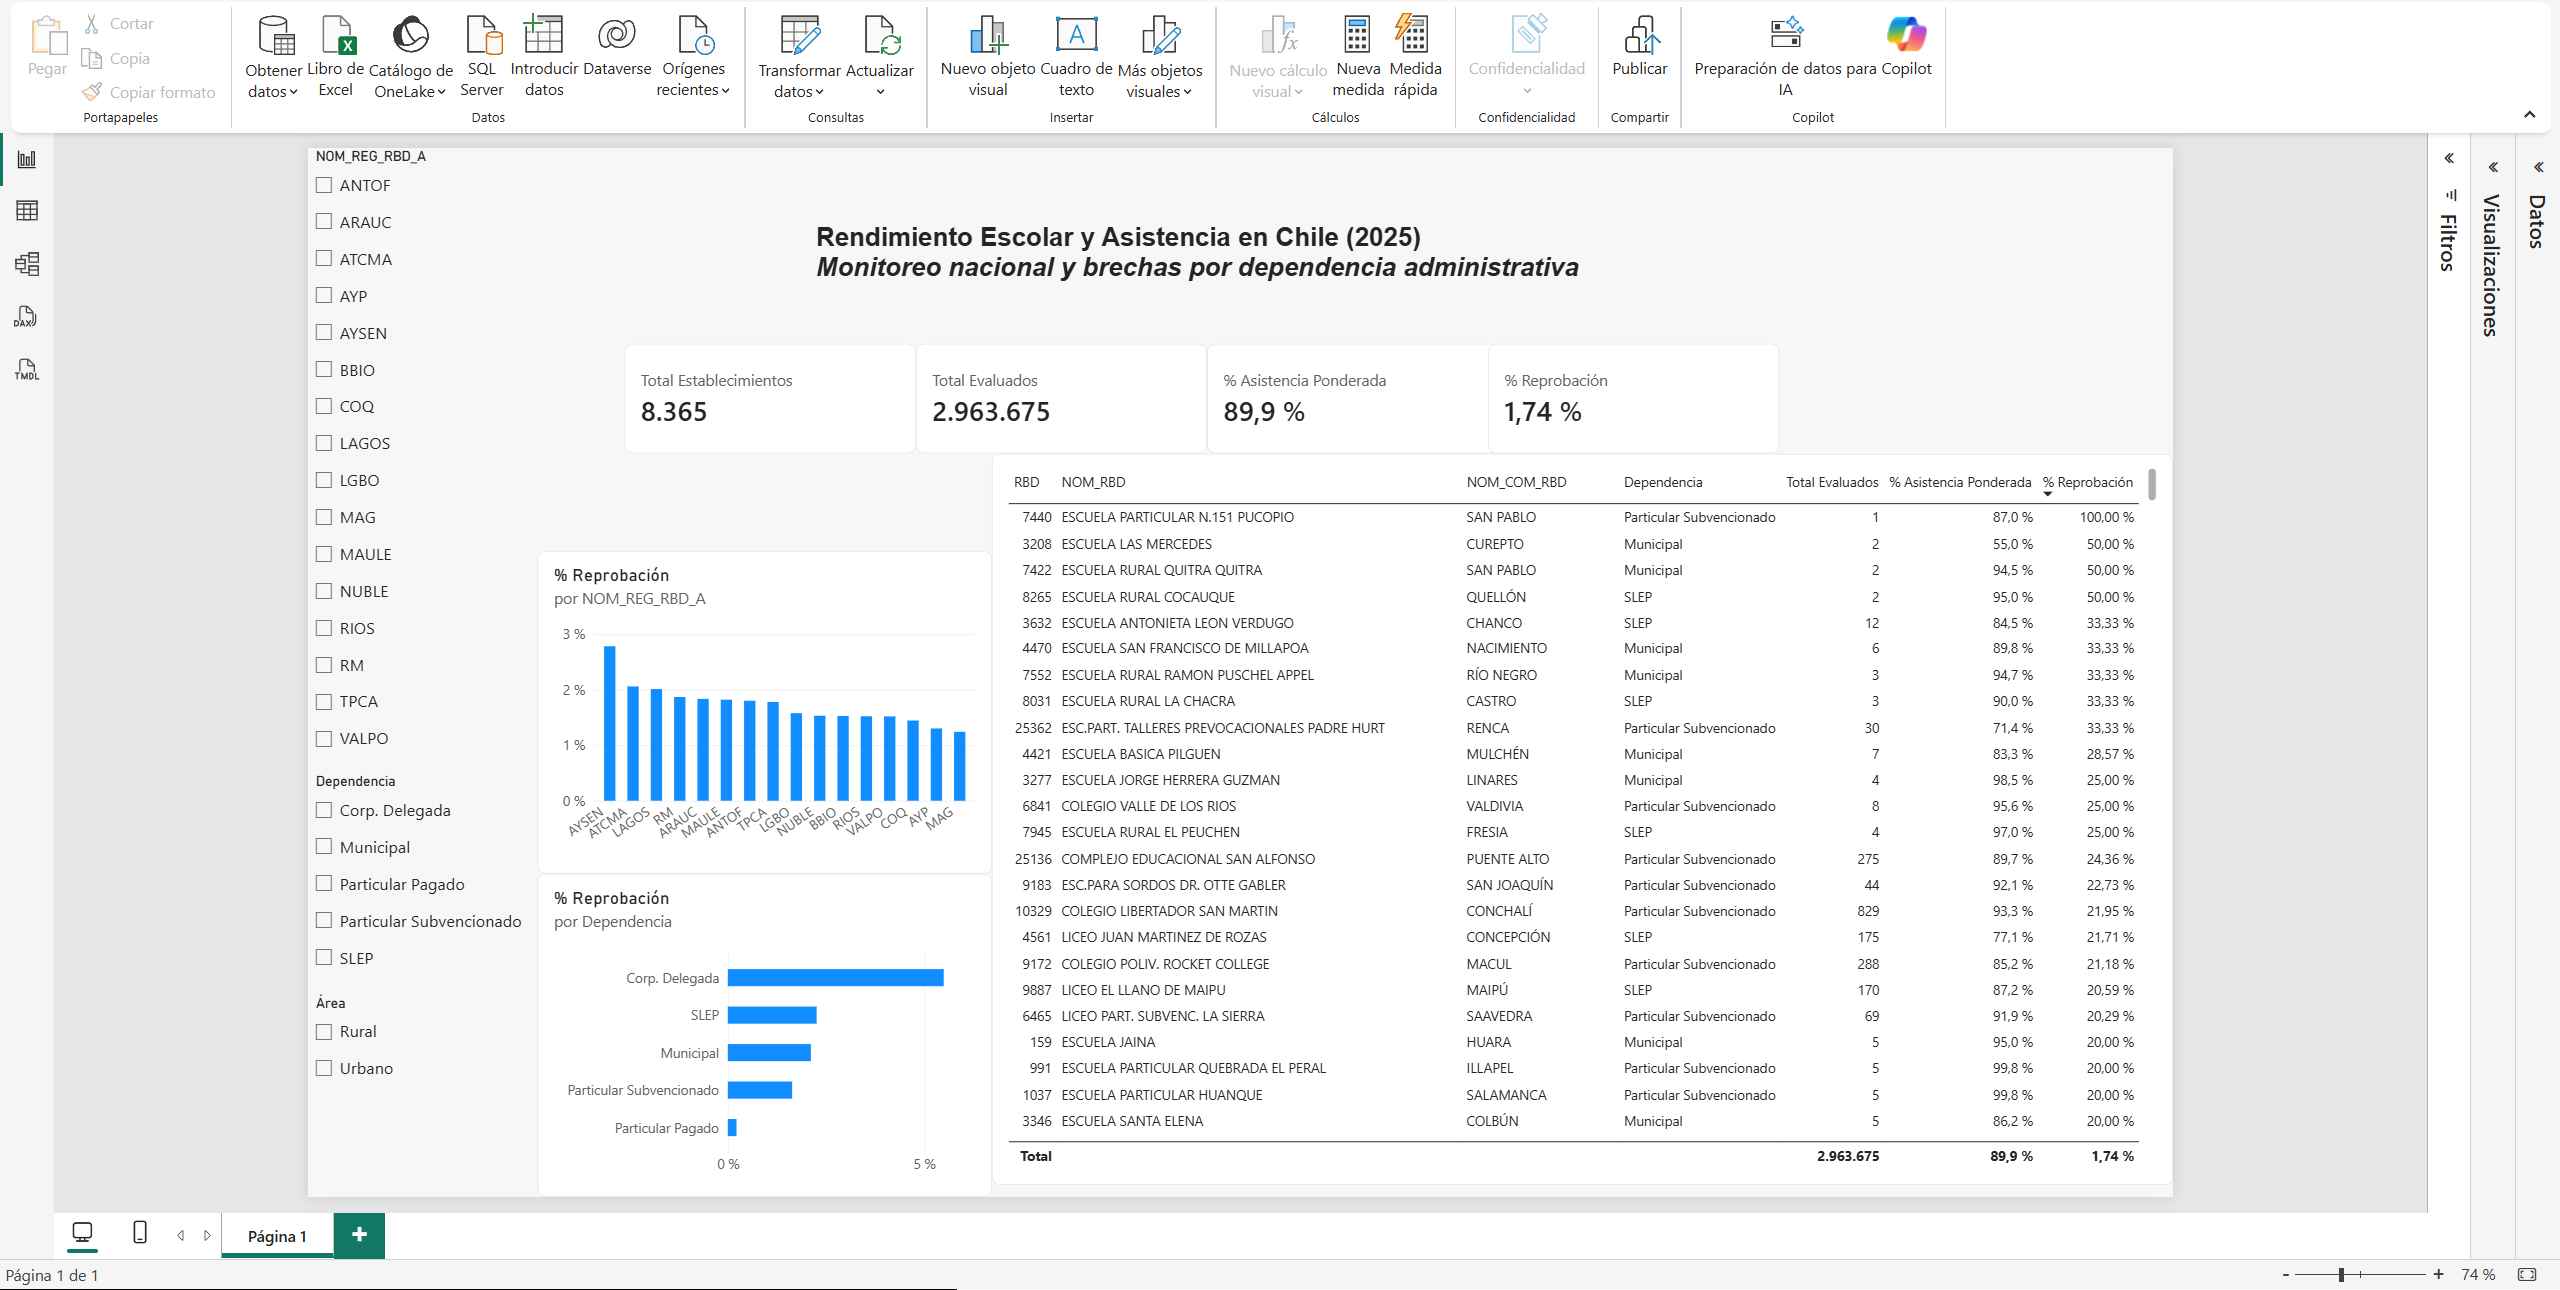

The dashboard page shown, as its layout file describes it:
{"tool":"powerbi","page":{"name":"Página 1","canvas":[1920,1080],"ordinal":0},"visuals":[{"type":"cardVisual","fields":{"Data":["df_consolidado_bq.Total Evaluados"]},"box":[625.1,201.4,300,113.9],"z":0},{"type":"cardVisual","fields":{"Data":["df_consolidado_bq.% Asistencia Ponderada"]},"box":[925.1,201.4,300,113.9],"z":1000},{"type":"cardVisual","fields":{"Data":["df_consolidado_bq.% Reprobación"]},"box":[1215.5,201.4,300,113.9],"z":2000},{"type":"cardVisual","fields":{"Data":["df_consolidado_bq.Total Establecimientos"]},"box":[325,201.4,300,113.9],"z":3000},{"type":"slicer","fields":{"Values":["df_consolidado_bq.NOM_REG_RBD_A"]},"box":[0,0,300,630.7],"z":4000},{"type":"slicer","fields":{"Values":["df_consolidado_bq.Área"]},"box":[0,871,300,208.4],"z":5000},{"type":"slicer","fields":{"Values":["df_consolidado_bq.Dependencia"]},"box":[0,643.2,300,227.8],"z":6000},{"type":"columnChart","fields":{"Category":["df_consolidado_bq.NOM_REG_RBD_A"],"Y":["df_consolidado_bq.% Reprobación"]},"box":[236.5,414.9,467.6,332.4],"z":7000},{"type":"tableEx","fields":{"Values":["df_consolidado_bq.RBD","df_consolidado_bq.NOM_RBD","df_consolidado_bq.NOM_COM_RBD","df_consolidado_bq.Dependencia","df_consolidado_bq.Total Evaluados","df_consolidado_bq.% Asistencia Ponderada","df_consolidado_bq.% Reprobación"]},"box":[704.1,314.9,1216.2,752.7],"z":8000},{"type":"clusteredBarChart","fields":{"Category":["df_consolidado_bq.Dependencia"],"Y":["df_consolidado_bq.% Reprobación"]},"box":[236.5,747.3,467.6,332.4],"z":9000},{"type":"textbox","box":[522.3,76.4,805.7,87.5],"z":10000}]}

Visuals, with their boxes on the page's 1920x1080 design canvas (x1, y1, x2, y2). These are canvas units, not pixel positions in the 2560x1290 screenshot, which may show the page scaled, cropped or inside an application window:
cardVisual - df_consolidado_bq.Total Evaluados: select_region(625, 201, 925, 315)
cardVisual - df_consolidado_bq.% Asistencia Ponderada: select_region(925, 201, 1225, 315)
cardVisual - df_consolidado_bq.% Reprobación: select_region(1216, 201, 1516, 315)
cardVisual - df_consolidado_bq.Total Establecimientos: select_region(325, 201, 625, 315)
slicer - df_consolidado_bq.NOM_REG_RBD_A: select_region(0, 0, 300, 631)
slicer - df_consolidado_bq.Área: select_region(0, 871, 300, 1079)
slicer - df_consolidado_bq.Dependencia: select_region(0, 643, 300, 871)
columnChart - df_consolidado_bq.NOM_REG_RBD_A x df_consolidado_bq.% Reprobación: select_region(236, 415, 704, 747)
tableEx - df_consolidado_bq.RBD x df_consolidado_bq.NOM_RBD: select_region(704, 315, 1920, 1068)
clusteredBarChart - df_consolidado_bq.Dependencia x df_consolidado_bq.% Reprobación: select_region(236, 747, 704, 1080)
textbox: select_region(522, 76, 1328, 164)
